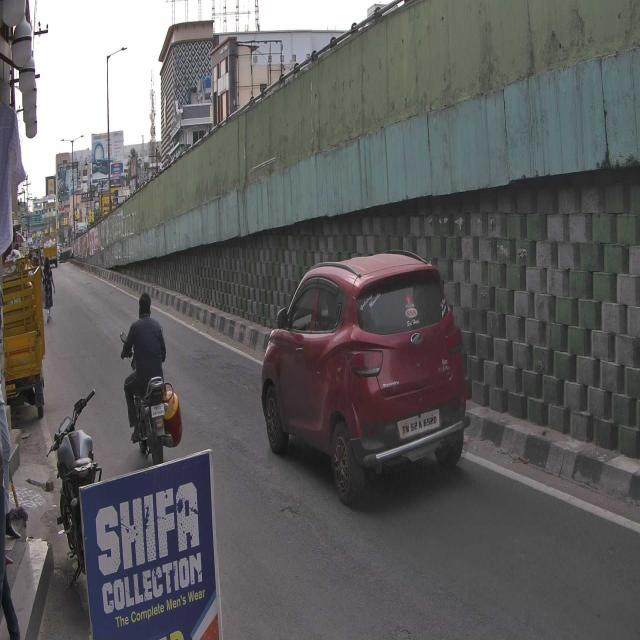single_rider: (120, 289, 174, 465)
